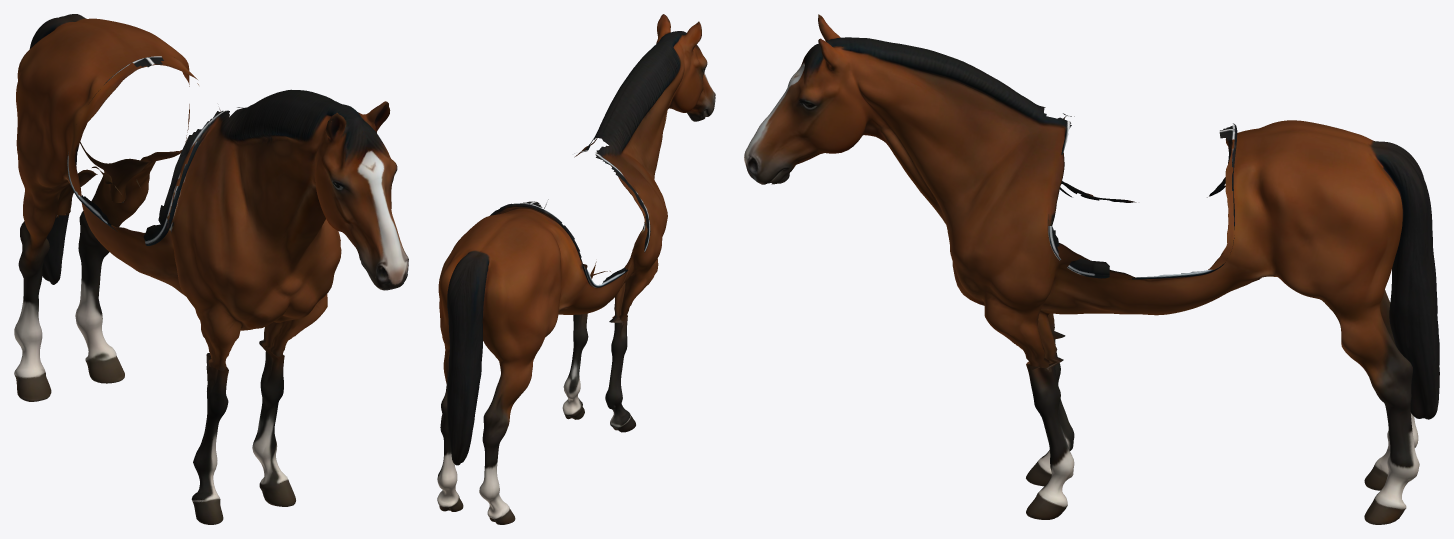
The model's file is horse-saddle-pad.glb.
3 renders of one model, left to right at view 1: azimuth 30°, elevation 25°; view 2: azimuth 150°, elevation 25°; view 3: azimuth 270°, elevation 25°, orthographic. The views are drawn at different scales.
Visible parts, largest first — view 1: tripo_node_546b09c0; view 2: tripo_node_546b09c0; view 3: tripo_node_546b09c0.
Boxes of the visible parts, left/top/right/bottom form: tripo_node_546b09c0: left=14, top=14, right=408, bottom=524; tripo_node_546b09c0: left=437, top=14, right=715, bottom=524; tripo_node_546b09c0: left=744, top=14, right=1439, bottom=524.
Size of the model in its own units: 0.7381 by 2.01 by 2.66.
1 material, 1 textured.
